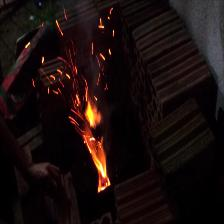fire: (45, 36, 131, 210)
